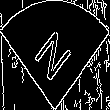N_SW: (32, 23, 78, 87)
